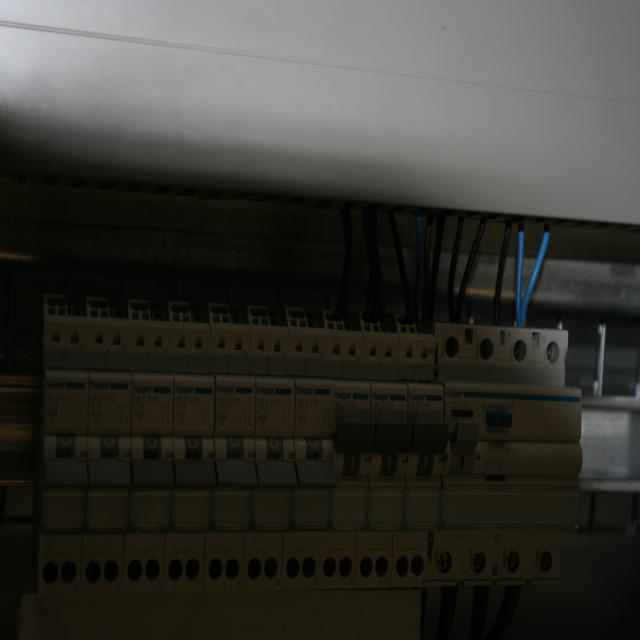FI_Sicherungskombi: (427, 324, 581, 582)
Sicherungen_230V: (315, 331, 372, 586), (203, 325, 256, 592), (122, 317, 173, 593), (243, 325, 295, 592), (163, 321, 213, 592), (356, 335, 410, 585), (282, 332, 333, 588), (42, 293, 85, 596), (85, 313, 131, 596), (393, 338, 445, 585)
